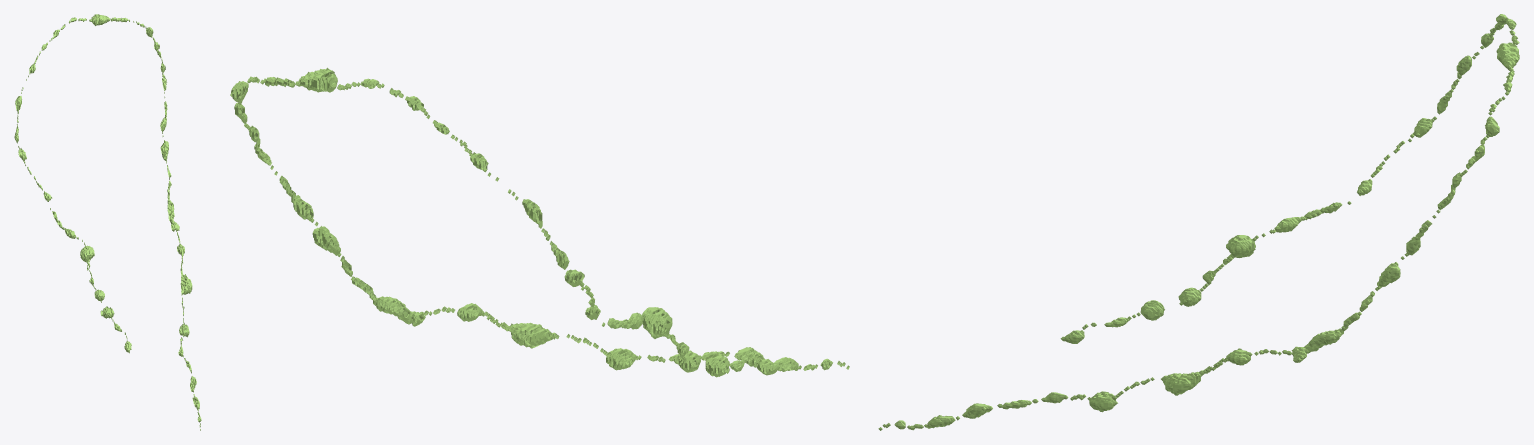
Rendered from SVV_PVNL.gltf.
3 renders of one model, left to right at view 1: azimuth 30°, elevation 25°; view 2: azimuth 150°, elevation 25°; view 3: azimuth 270°, elevation 25°, orthographic. The views are drawn at different scales.
Visible parts, largest first — view 1: PVNL; view 2: PVNL; view 3: PVNL.
Part boxes in pixels (x1,y1,x2,y2): PVNL: (14, 14, 201, 430); PVNL: (230, 67, 849, 377); PVNL: (878, 14, 1519, 430).
Size of the model in its own units: 92353 by 149043 by 189615.
